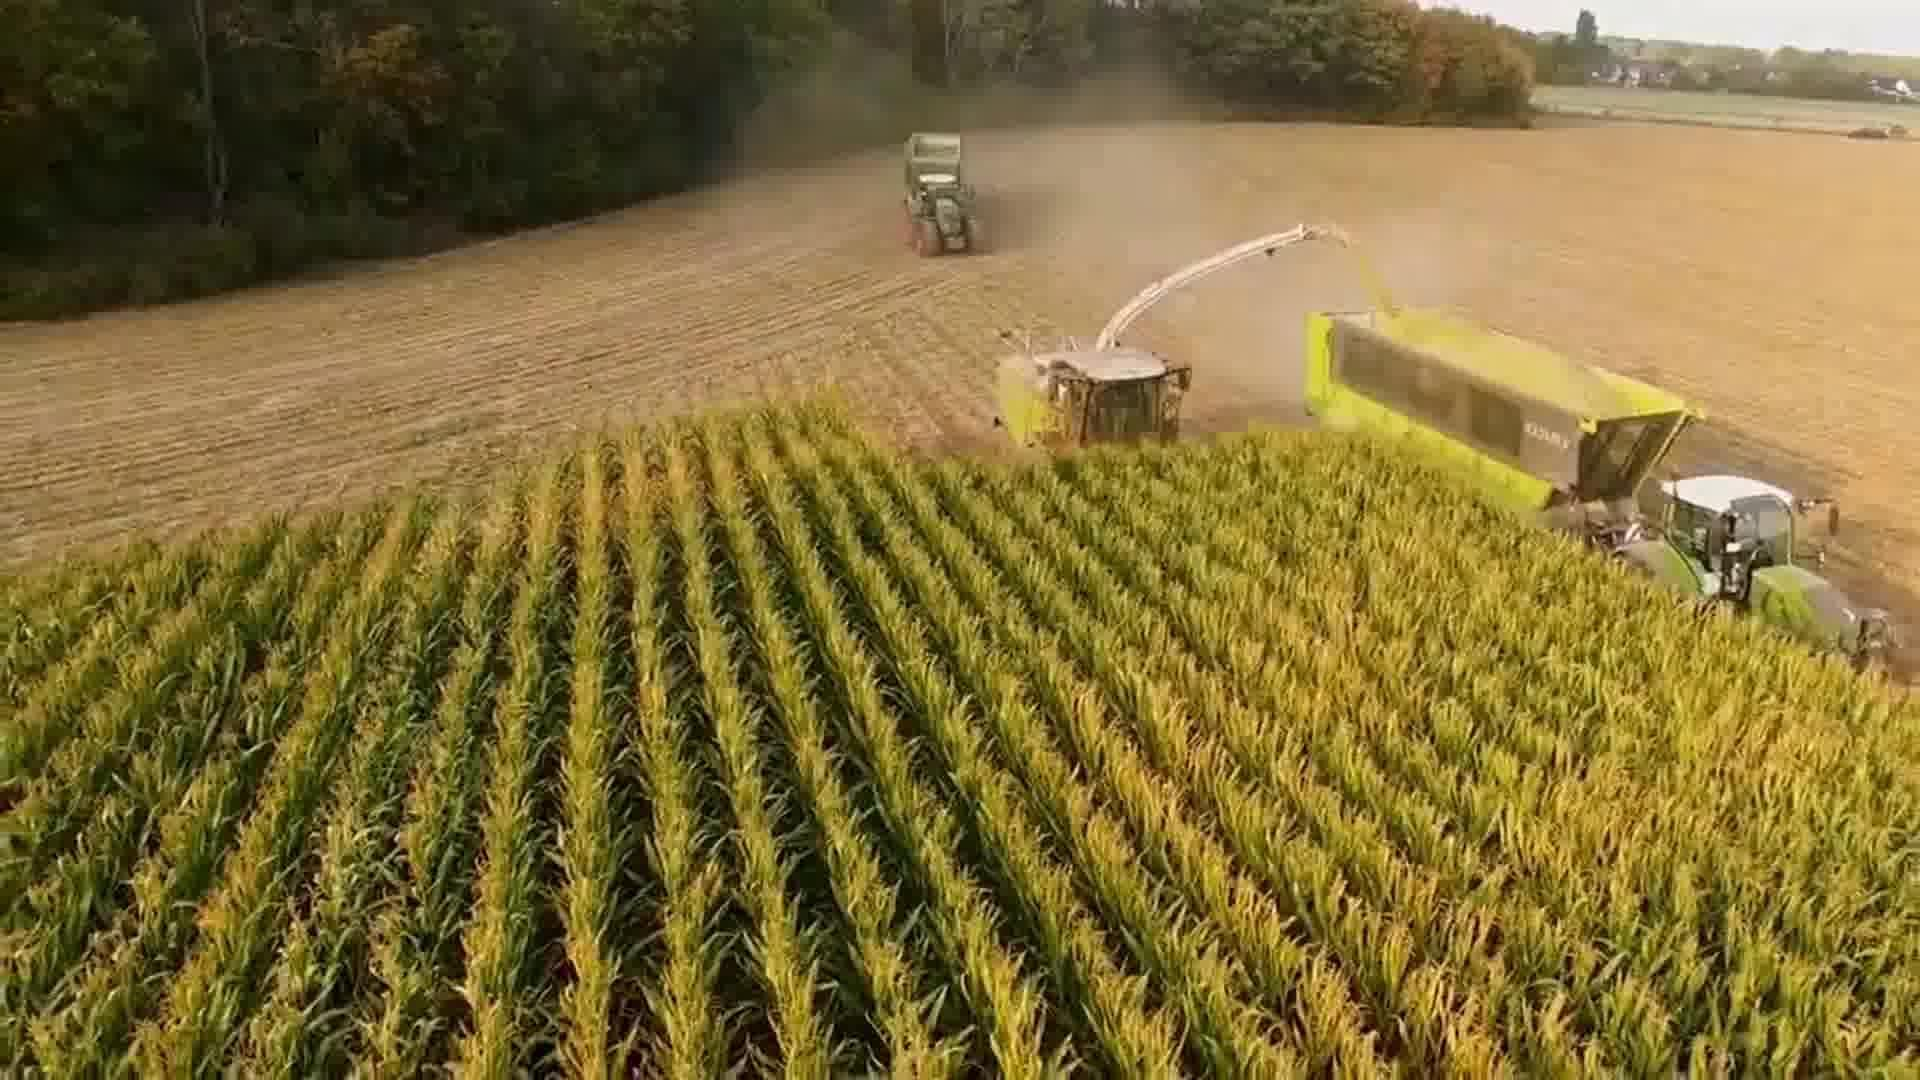combine harvester: (988, 216, 1358, 498)
tractor: (1598, 459, 1909, 700), (897, 169, 992, 262)
trailer: (1298, 298, 1712, 593), (895, 123, 975, 183)
